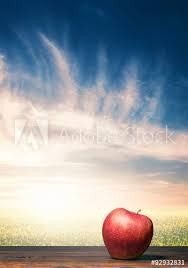apple: (101, 207, 155, 259)
